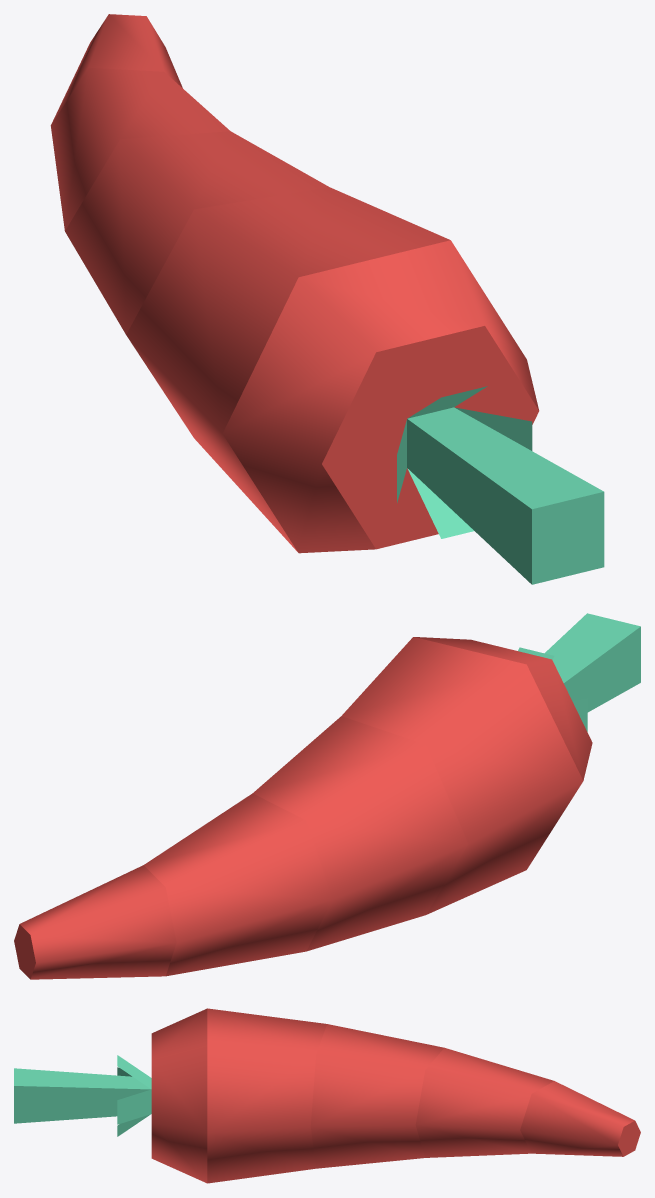
The model's file is Pepper.glb.
The picture shows the model from 3 angles, top to bottom: view 1: azimuth 30°, elevation 25°; view 2: azimuth 150°, elevation 25°; view 3: azimuth 270°, elevation 25°; orthographic projection. The views are drawn at different scales.
Parts seen in each view (by area): view 1: Pepper; view 2: Pepper; view 3: Pepper.
Boxes of the visible parts, box(x1,y1,x2,y2) form: Pepper: box(50, 14, 604, 584); Pepper: box(14, 613, 640, 979); Pepper: box(14, 1008, 640, 1183).
Size of the model in its own units: 0.1039 by 0.0775 by 0.3191.
